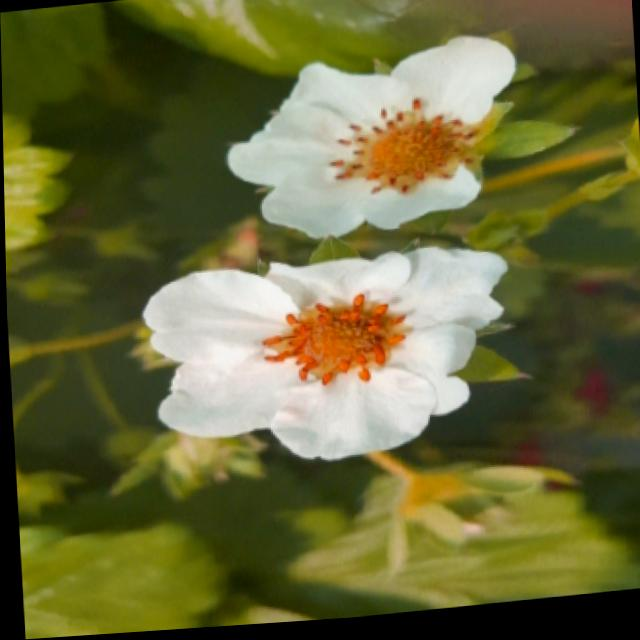Blossom Blight: (324, 98, 478, 202)
